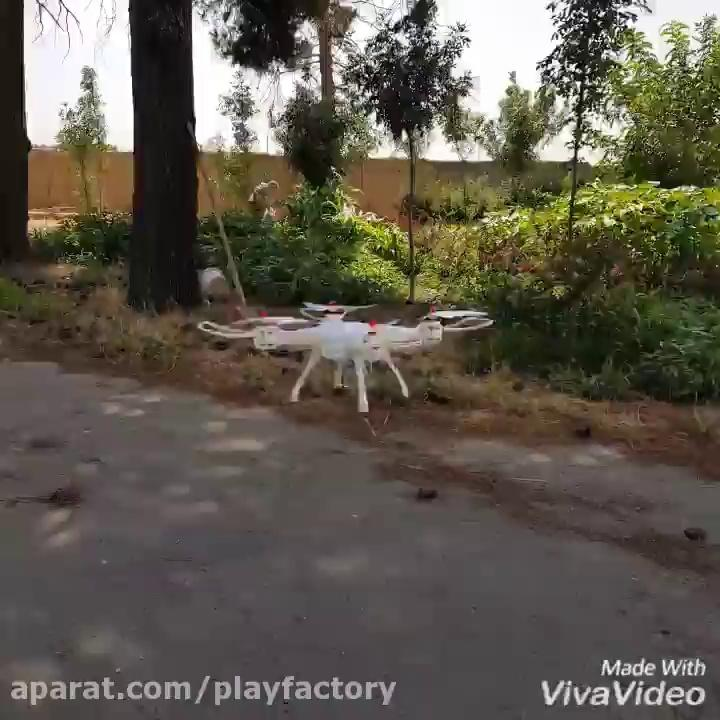drone: (193, 297, 498, 414)
